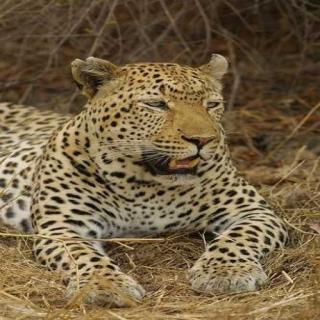Leopard: (0, 49, 308, 312)
